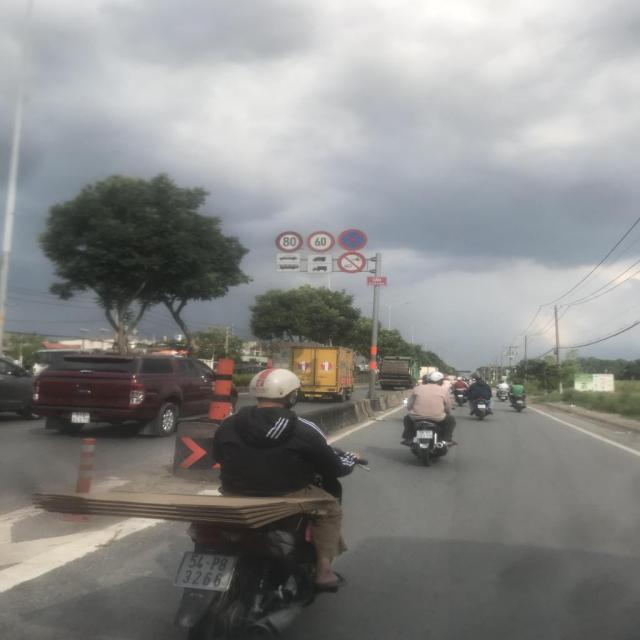cam_dung_xe_va_do_xe: (338, 229, 368, 251)
cam_xe_2_banh_va_xe_3_banh_co_dong_co: (337, 252, 366, 274)
khac: (307, 262, 332, 273), (276, 253, 301, 263), (307, 254, 332, 264), (276, 263, 300, 272)
toc_do_toi_da_60: (306, 232, 334, 252)
toc_do_toi_da_80: (275, 232, 303, 252)
